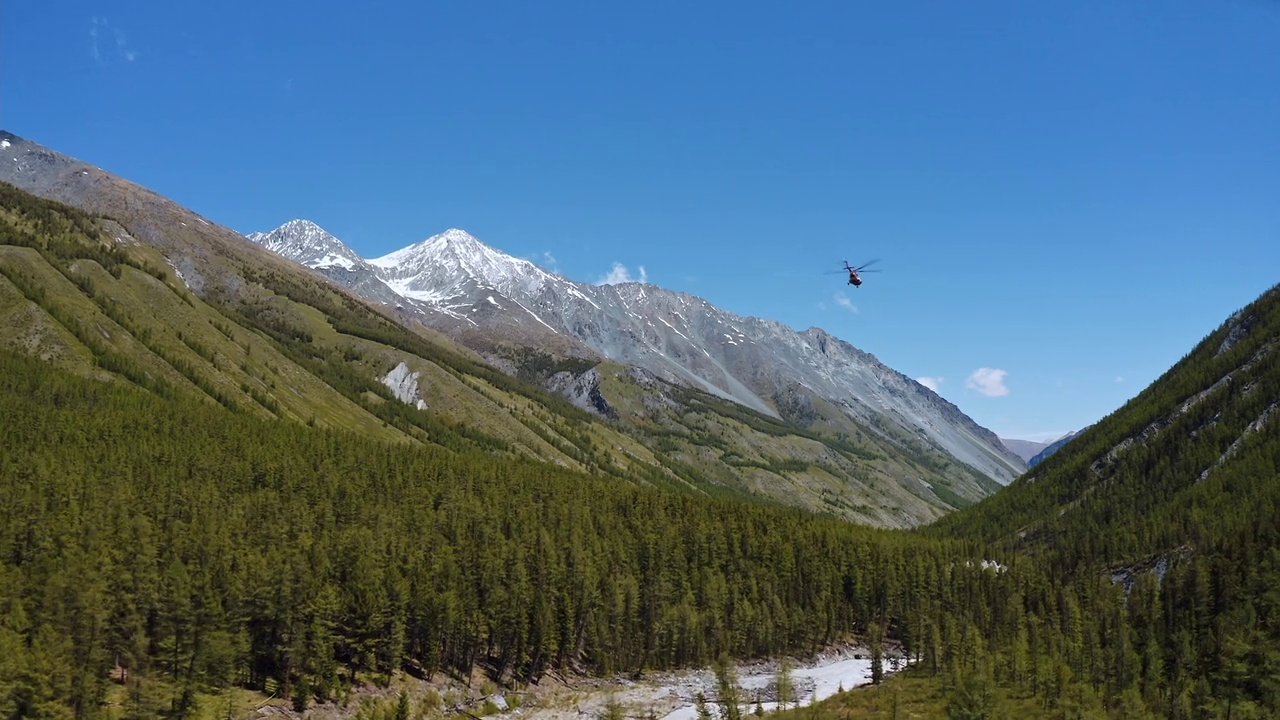heli: (821, 258, 884, 288)
